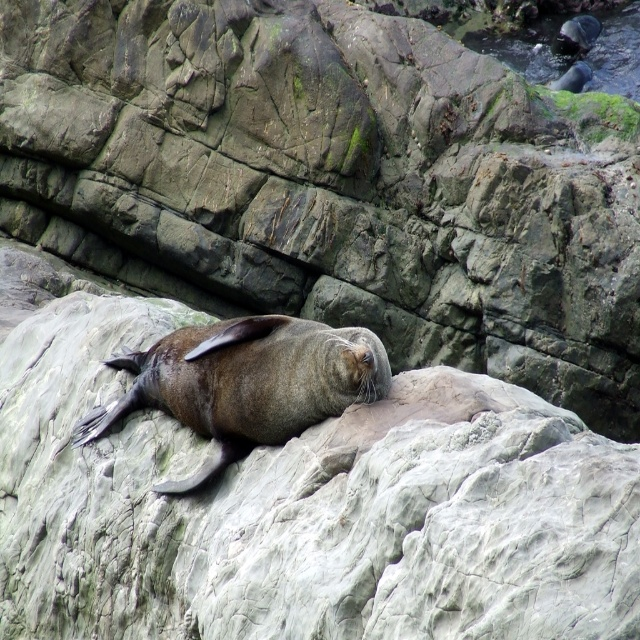Harbor seal: (89, 309, 394, 483)
